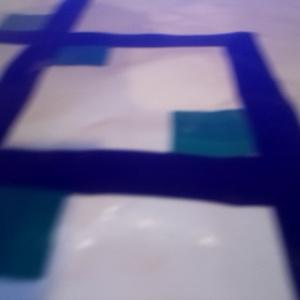bottom_right: (1, 151, 64, 280), (32, 32, 107, 66)
top_left: (173, 109, 293, 198), (4, 14, 55, 44)
